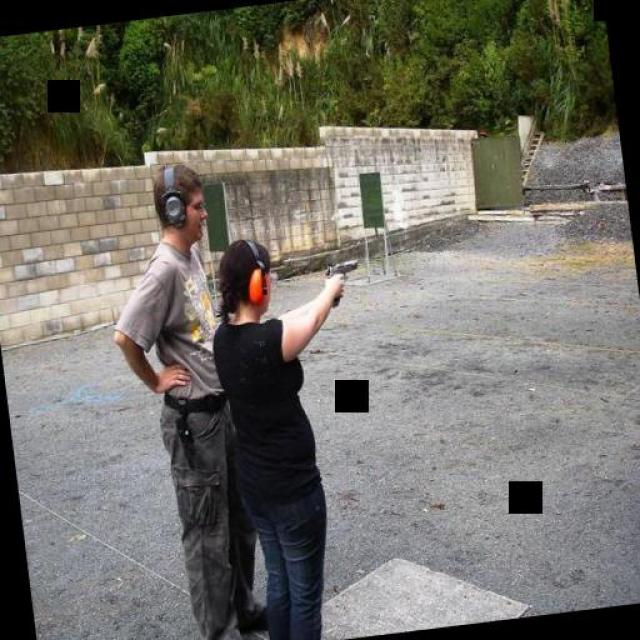gun: (316, 254, 362, 315)
